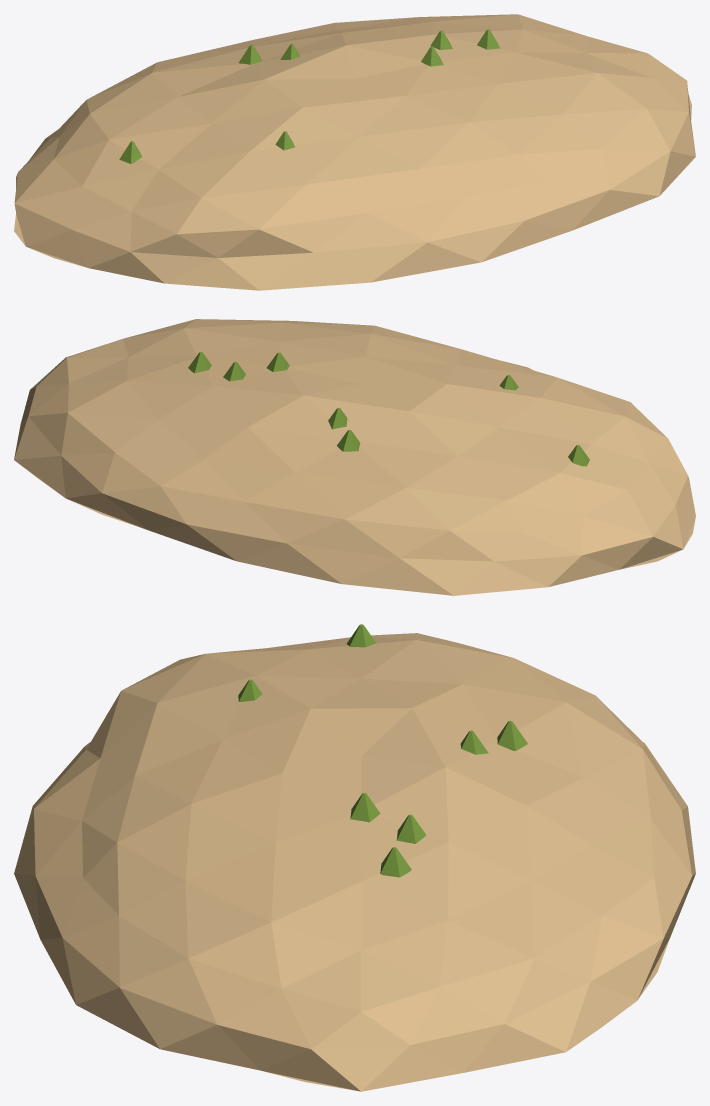
Rendered from bg_dune.fbx.
The picture shows the model from 3 angles, top to bottom: view 1: azimuth 30°, elevation 25°; view 2: azimuth 150°, elevation 25°; view 3: azimuth 270°, elevation 25°; orthographic projection. The views are drawn at different scales.
Parts seen in each view (by area): view 1: c_D9B98A_SmoothPlastic, c_7A9E3E_SmoothPlastic; view 2: c_D9B98A_SmoothPlastic, c_7A9E3E_SmoothPlastic; view 3: c_D9B98A_SmoothPlastic, c_7A9E3E_SmoothPlastic.
Boxes of the visible parts, x1,y1,x2,y2 form: c_D9B98A_SmoothPlastic: [14, 14, 695, 290]; c_7A9E3E_SmoothPlastic: [119, 29, 499, 163]; c_D9B98A_SmoothPlastic: [14, 319, 695, 595]; c_7A9E3E_SmoothPlastic: [188, 352, 589, 466]; c_D9B98A_SmoothPlastic: [14, 633, 695, 1091]; c_7A9E3E_SmoothPlastic: [238, 624, 527, 877].
Bounding box in the file's own units: 90.91 × 13.12 × 60.87.
